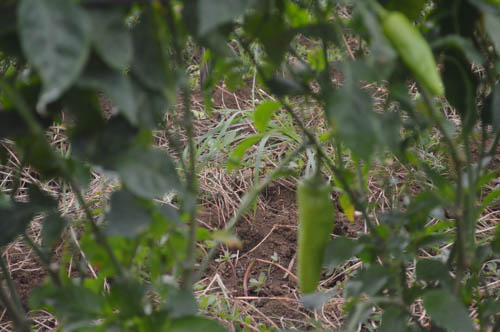ChiliPepper: (382, 15, 449, 93), (294, 184, 337, 297)
